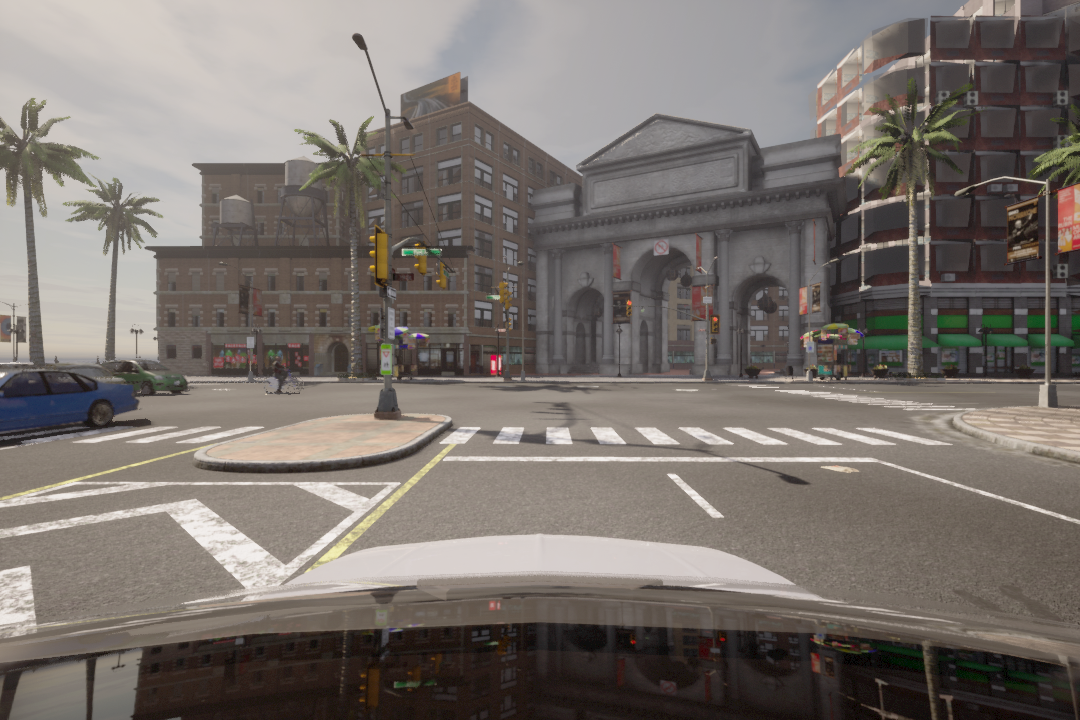TrafficLight: (710, 314, 721, 337), (625, 297, 634, 318)
TrafficSign: (651, 238, 671, 257)
walkside: (429, 421, 974, 458), (14, 423, 267, 447)
